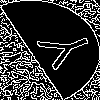Y: (24, 25, 98, 76)
